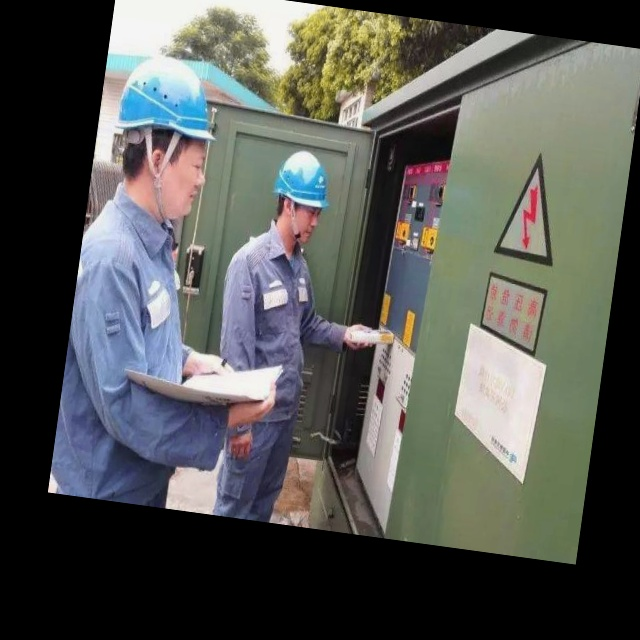Con_Casco: (264, 152, 331, 248)
